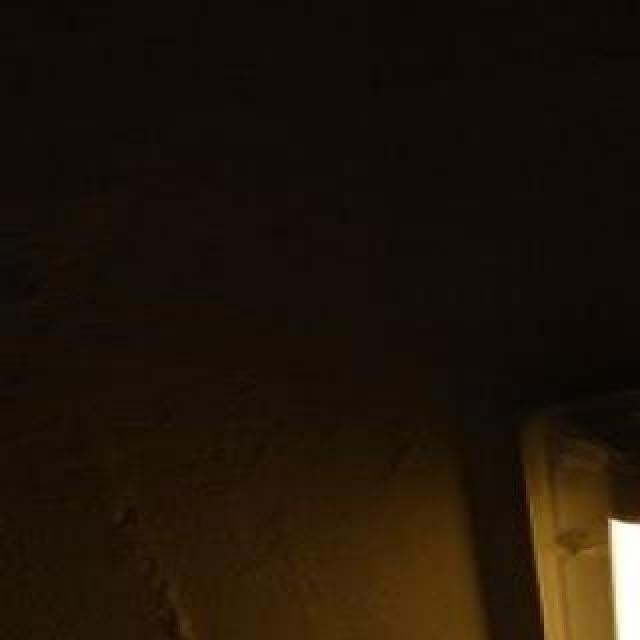fluorescent tube: (582, 420, 640, 640)
